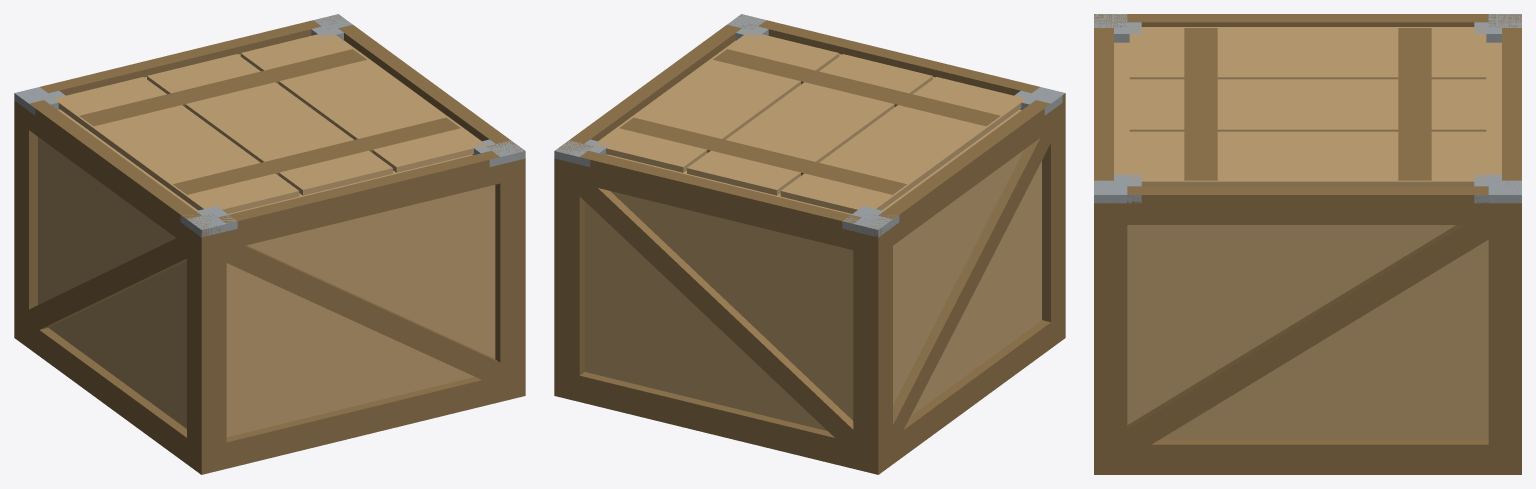
Rendered from caja.glb.
The picture shows the model from 3 angles, left to right: view 1: azimuth 30°, elevation 25°; view 2: azimuth 150°, elevation 25°; view 3: azimuth 270°, elevation 25°; orthographic projection. The views are drawn at different scales.
Visible parts, largest first — view 1: caja; view 2: caja; view 3: caja.
Part boxes in pixels (left/top/right/bottom): caja: left=14, top=14, right=525, bottom=474; caja: left=554, top=14, right=1065, bottom=474; caja: left=1094, top=14, right=1521, bottom=474.
Bounding box in the file's own units: 1.8 × 1.3 × 1.8.
